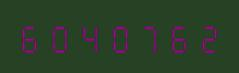four: (75, 20, 103, 53)
seven: (133, 20, 161, 53)
six: (17, 20, 45, 53), (162, 20, 190, 53)
two: (191, 20, 219, 53)
zero: (46, 20, 74, 53), (104, 20, 132, 53)
